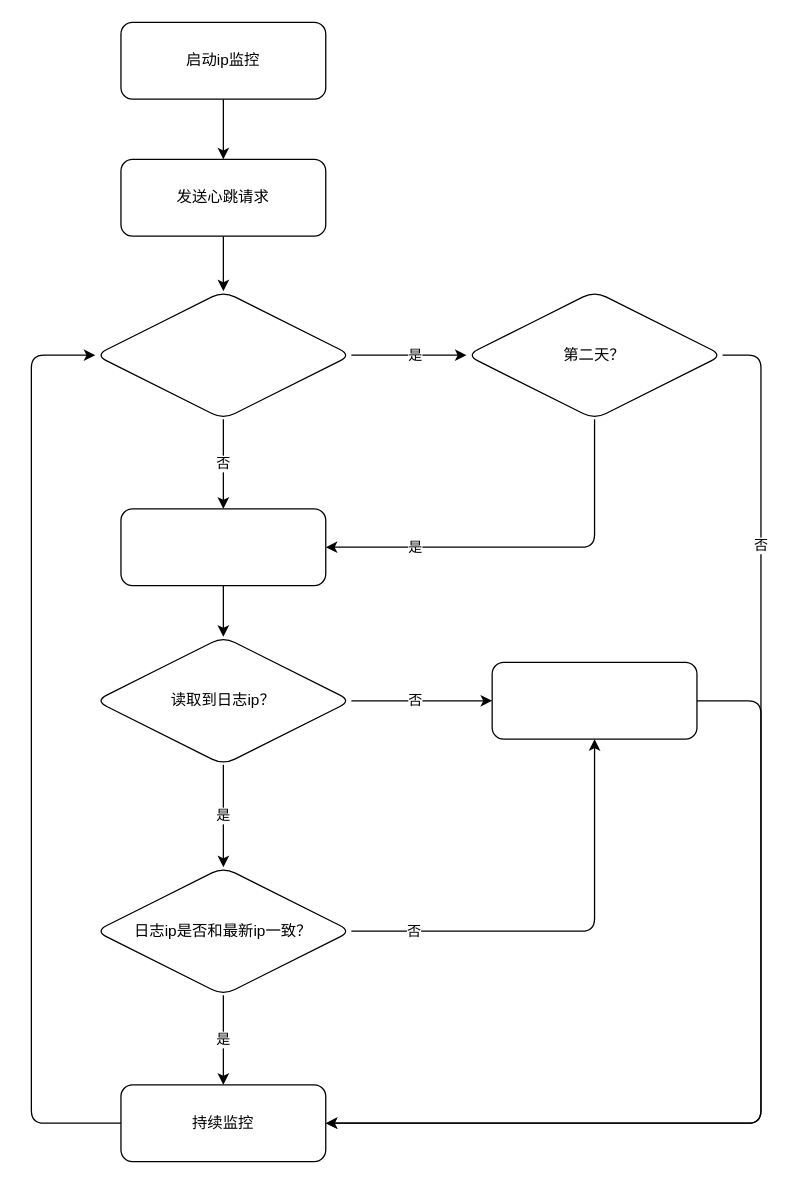
The diagram is 794 pixels wide and 1184 high, and some of its shapes have lost their labels. The shapes that lost their labels are listed below. From the top down, each one's centre as x and y in pixels, then its label:
At [222,354]: "ip变动超过5次？".
At [223,547]: "读取日志ip 获取最新的ip".
At [594,700]: "写入最新ip到日志 发送钉钉通知".
